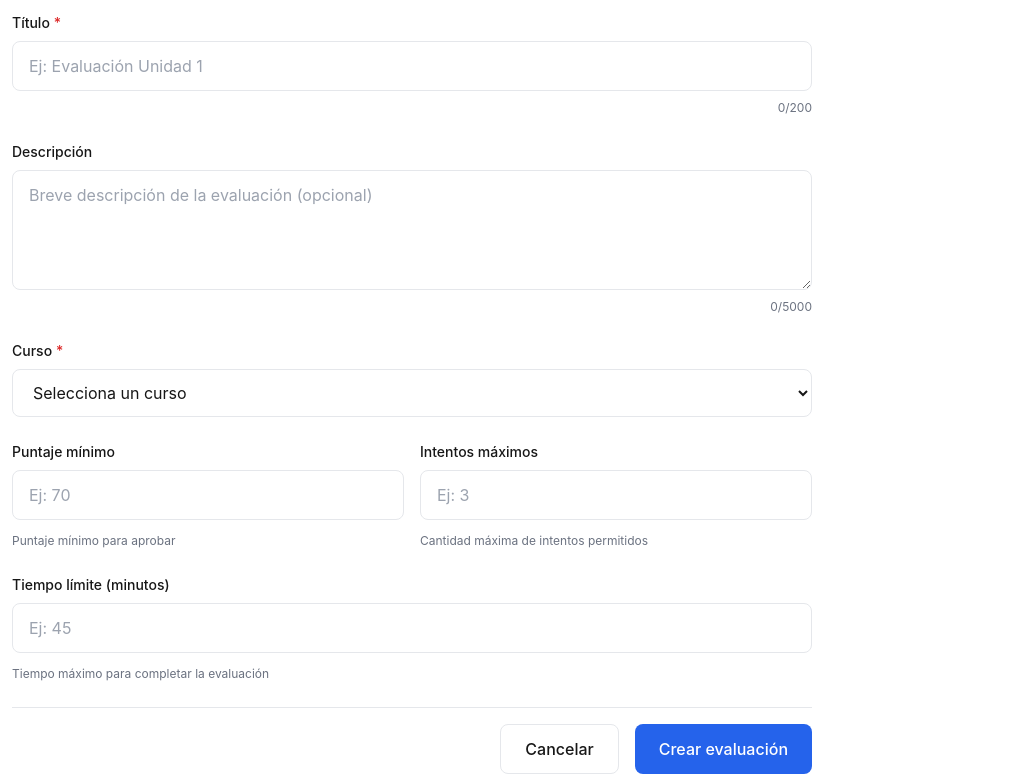
Scenario: EvaluacionForm › debería mostrar error si falta el título
Select "Curso de Matemática" in the dropdown labelled "Curso*": (412, 393) [12,369,812,417]
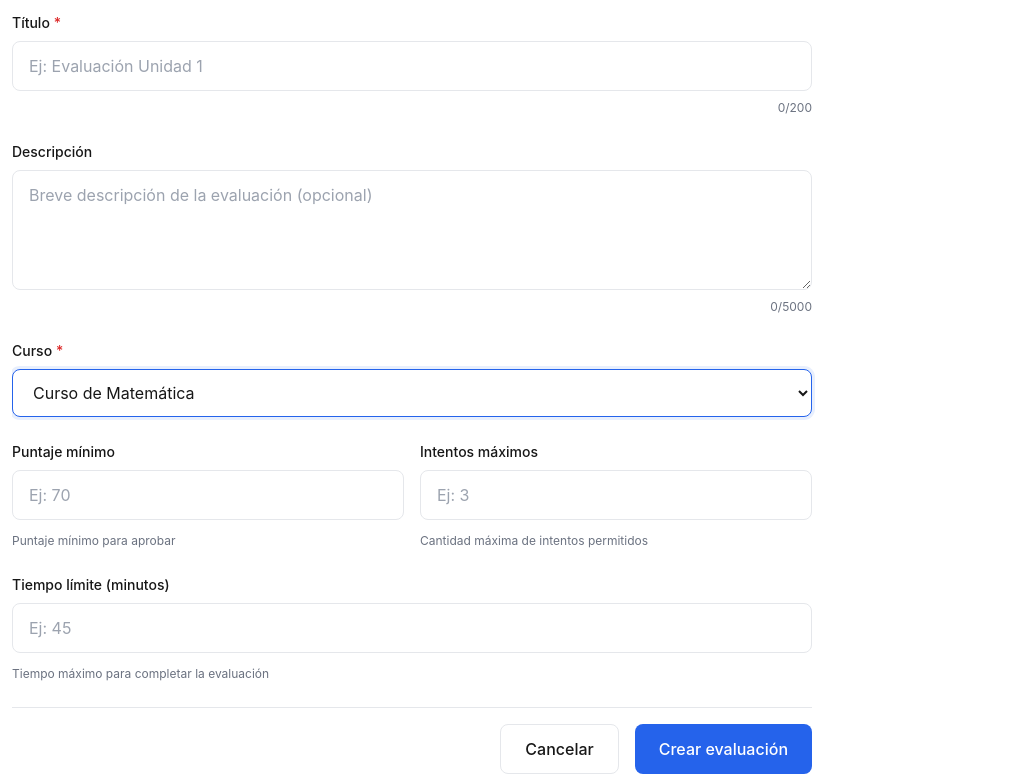
Submit the form named "crear evaluación"
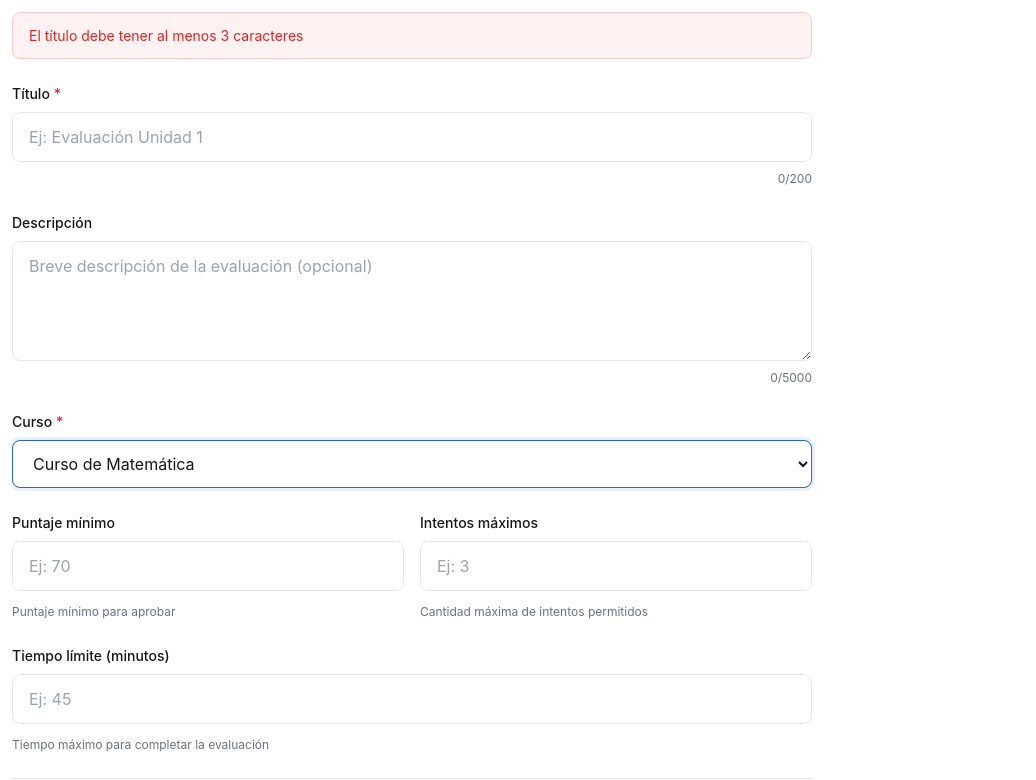
Result: the text "El título debe tener al menos 3 caracteres" is shown at [12,12,812,59]
